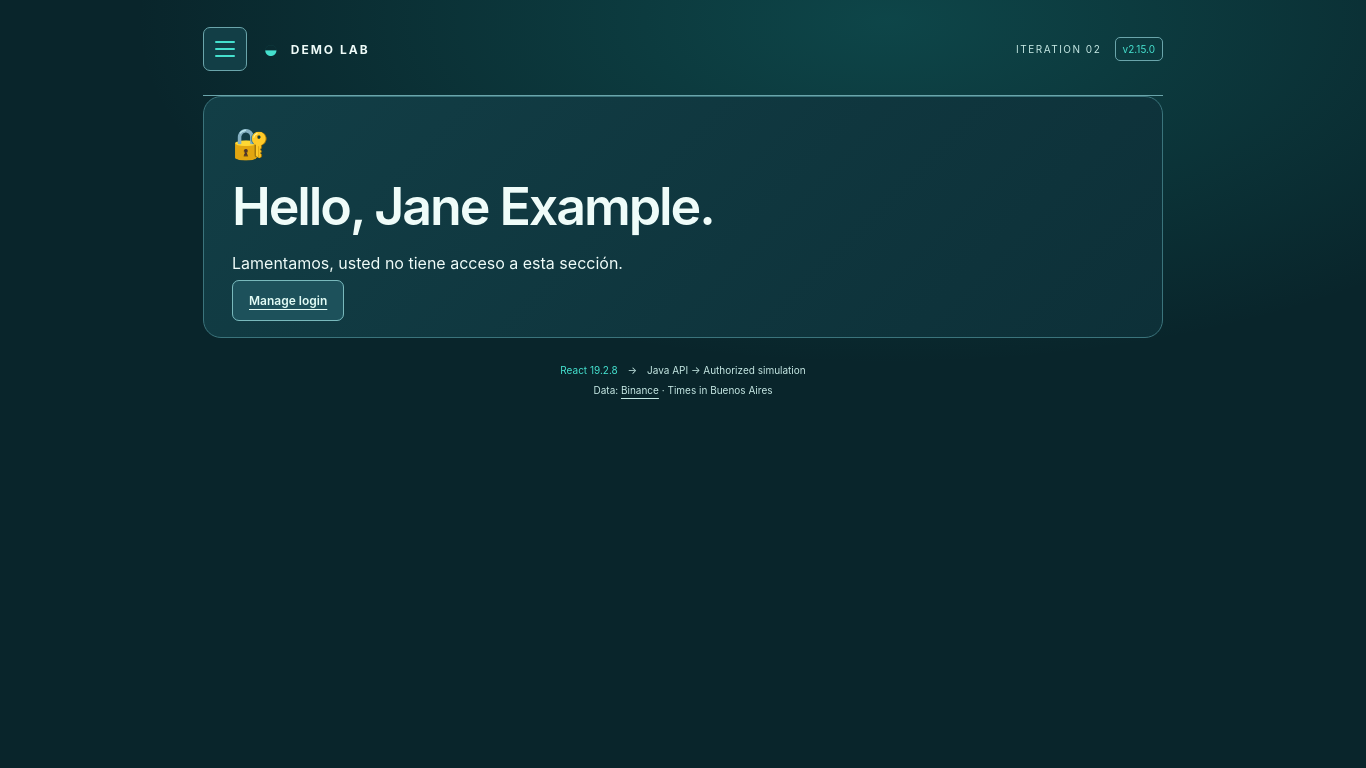
Test case: another signed-in user is greeted and denied while simulator navigation stays visible
expect the heading "Hello, Jane Example." is shown: met, box top-left (232, 175), bottom-right (714, 238)
expect the text "Lamentamos, usted no tiene acceso a esta sección." is shown: met, box top-left (232, 253), bottom-right (623, 273)
Step 1. Click the button named "Menu" → point(225, 49), box top-left (203, 27), bottom-right (247, 71)
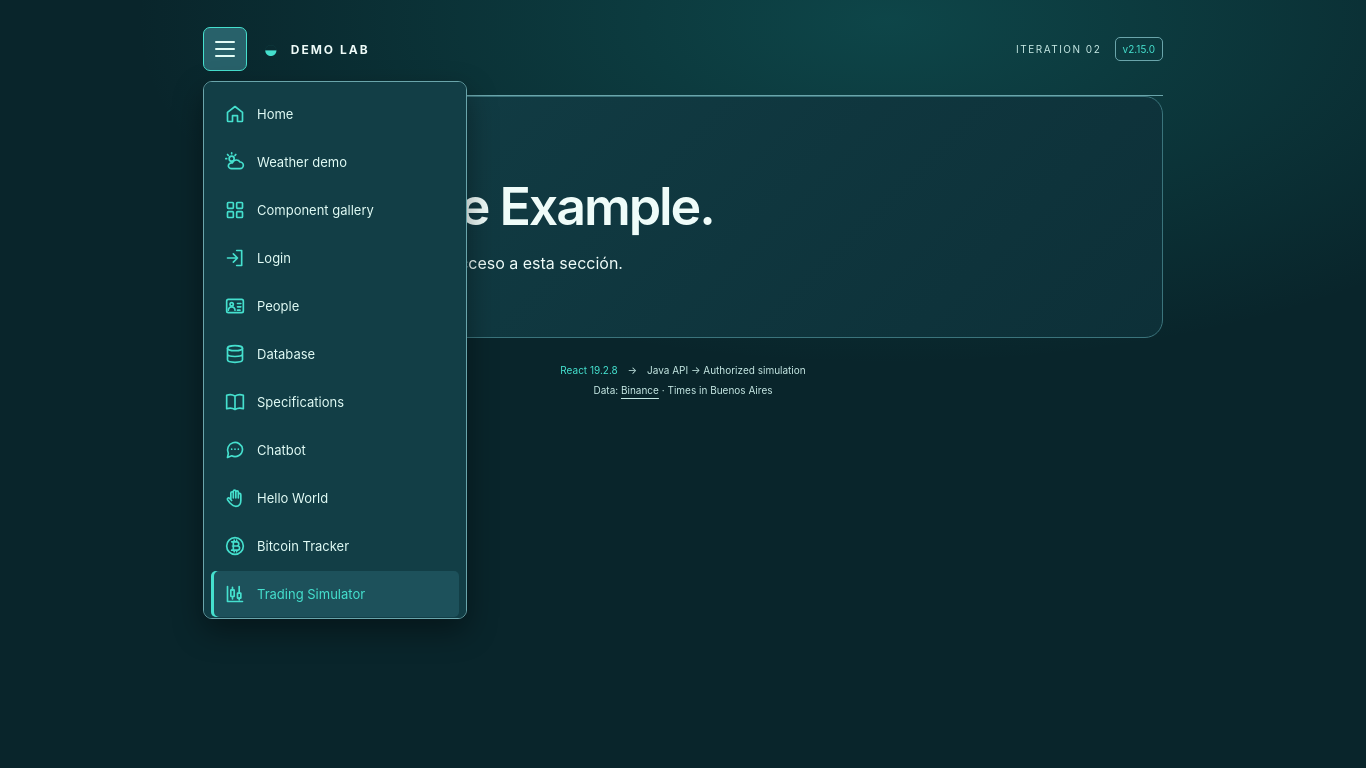
expect the link "Trading Simulator" is shown: met, box top-left (211, 571), bottom-right (459, 617)
